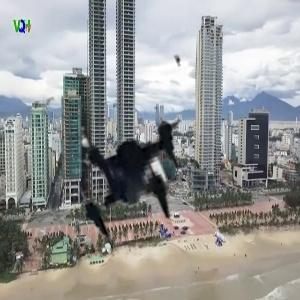drone: (23, 57, 224, 258)
